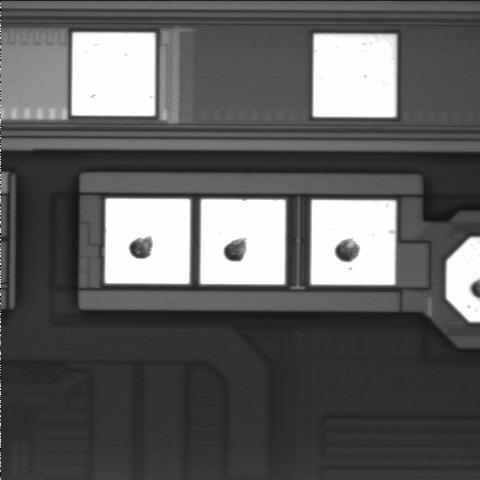pad: (105, 199, 190, 284), (200, 199, 285, 284), (311, 200, 396, 285), (72, 33, 155, 116), (313, 34, 396, 117)
